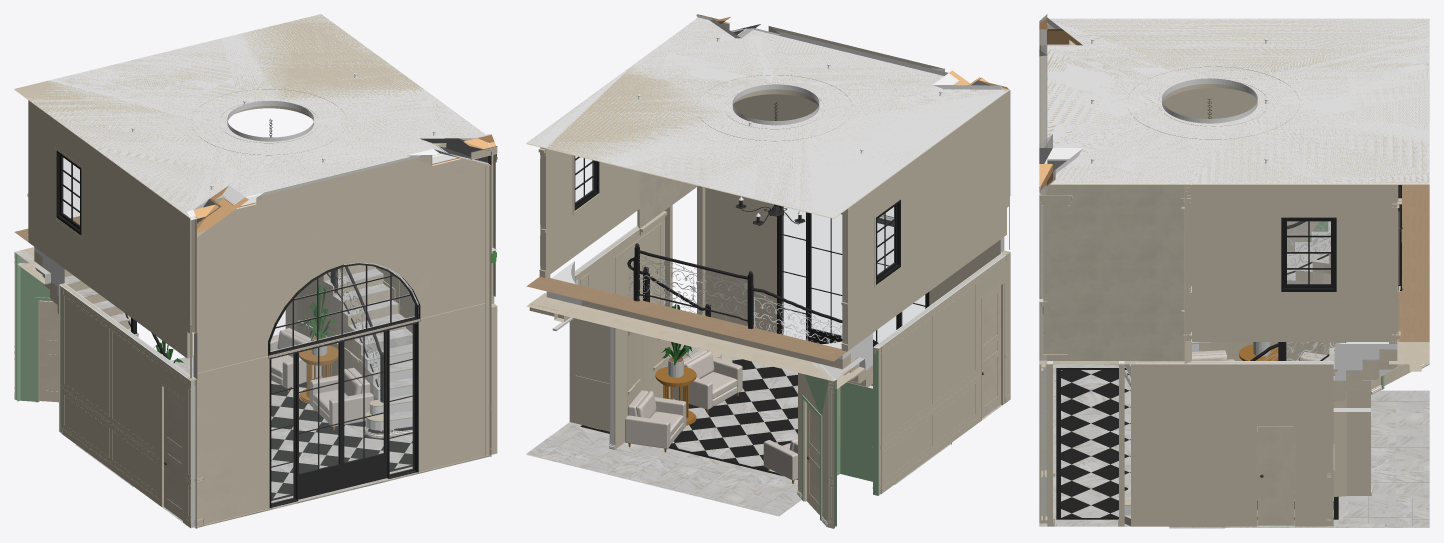
The model's file is entry-7bce03525a22.glb.
3 renders of one model, left to right at view 1: azimuth 30°, elevation 25°; view 2: azimuth 150°, elevation 25°; view 3: azimuth 270°, elevation 25°, orthographic. The views are drawn at different scales.
Visible parts, largest first — view 1: entry-9d91b47435c6fb33, entry-4edf3a9420c06709, entry-e8793759323e04f0, entry-698abdfdc6fb970d, entry-9ca48b730e5de4b2, entry-746250f96522f643, entry-85f0fd939e0fcc78, entry-8d5f500af8e4c699, entry-785988ccf932ddd5, entry-c4ac463b6a960119, entry-969fb0f33943ba89, entry-a5eabba2ad6474eb (+18 smaller); view 2: entry-9d91b47435c6fb33, entry-746250f96522f643, entry-e8793759323e04f0, entry-85f0fd939e0fcc78, entry-2575515a05775d9e, entry-d5a4a1b5d3594c04, entry-698abdfdc6fb970d, entry-ba376bd68a22f7f3, entry-c4ac463b6a960119, entry-c51ecd664a3b22a3, entry-8b5649904563319a, entry-6a051330000fbca1 (+28 smaller); view 3: entry-9d91b47435c6fb33, entry-6a051330000fbca1, entry-c51ecd664a3b22a3, entry-e8793759323e04f0, entry-62353aa10fc57f23, entry-c4ac463b6a960119, entry-ba376bd68a22f7f3, entry-2575515a05775d9e, entry-20932135983111ad, entry-489e9ad801b4b62e, entry-80d276f58a4dc5cb, entry-224035c89a69c041 (+19 smaller).
Part boxes in pixels (x1,y1,x2,y2): entry-9d91b47435c6fb33: (14,14,485,218); entry-4edf3a9420c06709: (195,150,491,372); entry-e8793759323e04f0: (14,14,483,217); entry-698abdfdc6fb970d: (269,322,418,508); entry-9ca48b730e5de4b2: (195,302,490,526); entry-746250f96522f643: (28,100,192,358); entry-85f0fd939e0fcc78: (60,283,192,525); entry-8d5f500af8e4c699: (268,262,420,358); entry-785988ccf932ddd5: (196,150,491,373); entry-c4ac463b6a960119: (271,379,412,498); entry-969fb0f33943ba89: (196,302,490,526); entry-a5eabba2ad6474eb: (14,251,50,401); entry-9d91b47435c6fb33: (526,17,1008,218); entry-746250f96522f643: (842,92,1006,350); entry-e8793759323e04f0: (528,18,1008,210); entry-85f0fd939e0fcc78: (873,253,1006,494); entry-2575515a05775d9e: (526,275,851,381); entry-d5a4a1b5d3594c04: (706,188,1007,389); entry-698abdfdc6fb970d: (777,205,929,346); entry-ba376bd68a22f7f3: (540,428,800,515); entry-c4ac463b6a960119: (586,354,797,472); entry-c51ecd664a3b22a3: (540,147,639,277); entry-8b5649904563319a: (570,281,609,431); entry-6a051330000fbca1: (569,219,663,421); entry-9d91b47435c6fb33: (1041,18,1429,184); entry-6a051330000fbca1: (1131,361,1333,526); entry-c51ecd664a3b22a3: (1192,184,1398,341); entry-e8793759323e04f0: (1042,14,1429,183); entry-62353aa10fc57f23: (1047,184,1191,364); entry-c4ac463b6a960119: (1061,370,1333,517); entry-ba376bd68a22f7f3: (1348,390,1429,523); entry-2575515a05775d9e: (1389,185,1429,364); entry-20932135983111ad: (1281,217,1336,291); entry-489e9ad801b4b62e: (1043,195,1067,354); entry-80d276f58a4dc5cb: (1257,426,1294,525); entry-224035c89a69c041: (1346,380,1370,495).
Bounding box in the file's own units: 6.54 × 6.44 × 6.51.
Materials: 46 (9 with a texture image).
